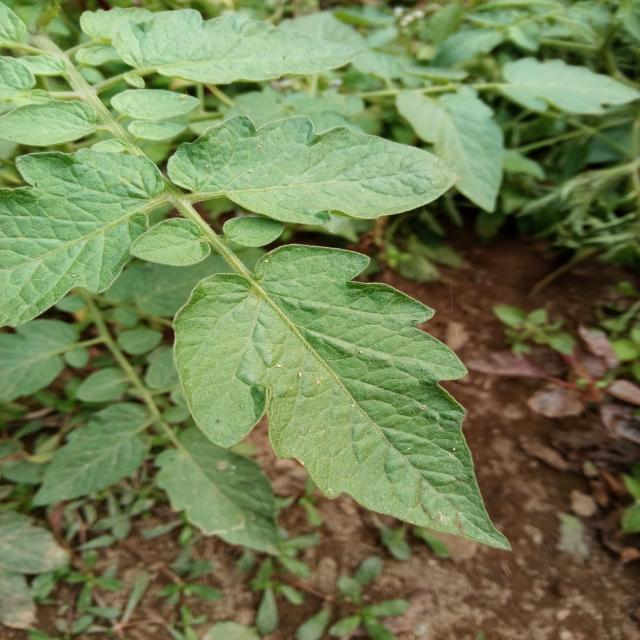Healthy: (136, 206, 580, 554), (161, 89, 461, 257), (0, 149, 162, 326)
